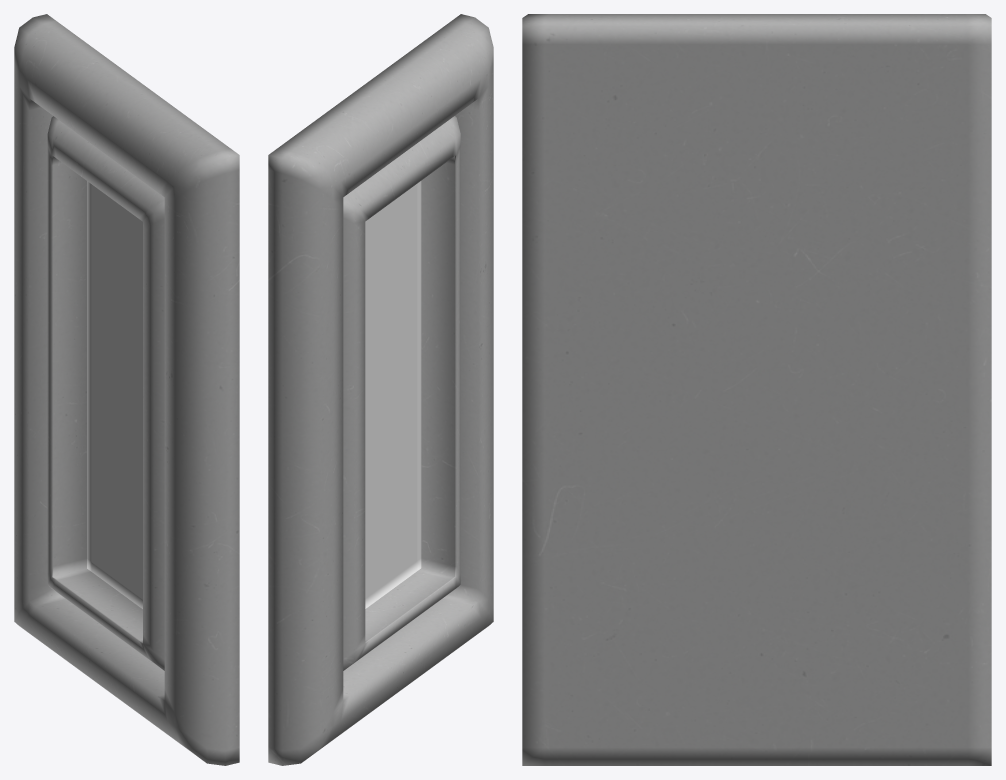
The model's file is switch2.fbx.
3 renders of one model, left to right at view 1: azimuth 30°, elevation 25°; view 2: azimuth 150°, elevation 25°; view 3: azimuth 270°, elevation 25°, orthographic. The views are drawn at different scales.
Visible parts, largest first — view 1: Switch2; view 2: Switch2; view 3: Switch2.
Boxes of the visible parts, left/top/right/bottom form: Switch2: left=14, top=14, right=239, bottom=765; Switch2: left=268, top=14, right=493, bottom=765; Switch2: left=522, top=14, right=991, bottom=765.
Size of the model in its own units: 1.2 by 15.03 by 8.65.
